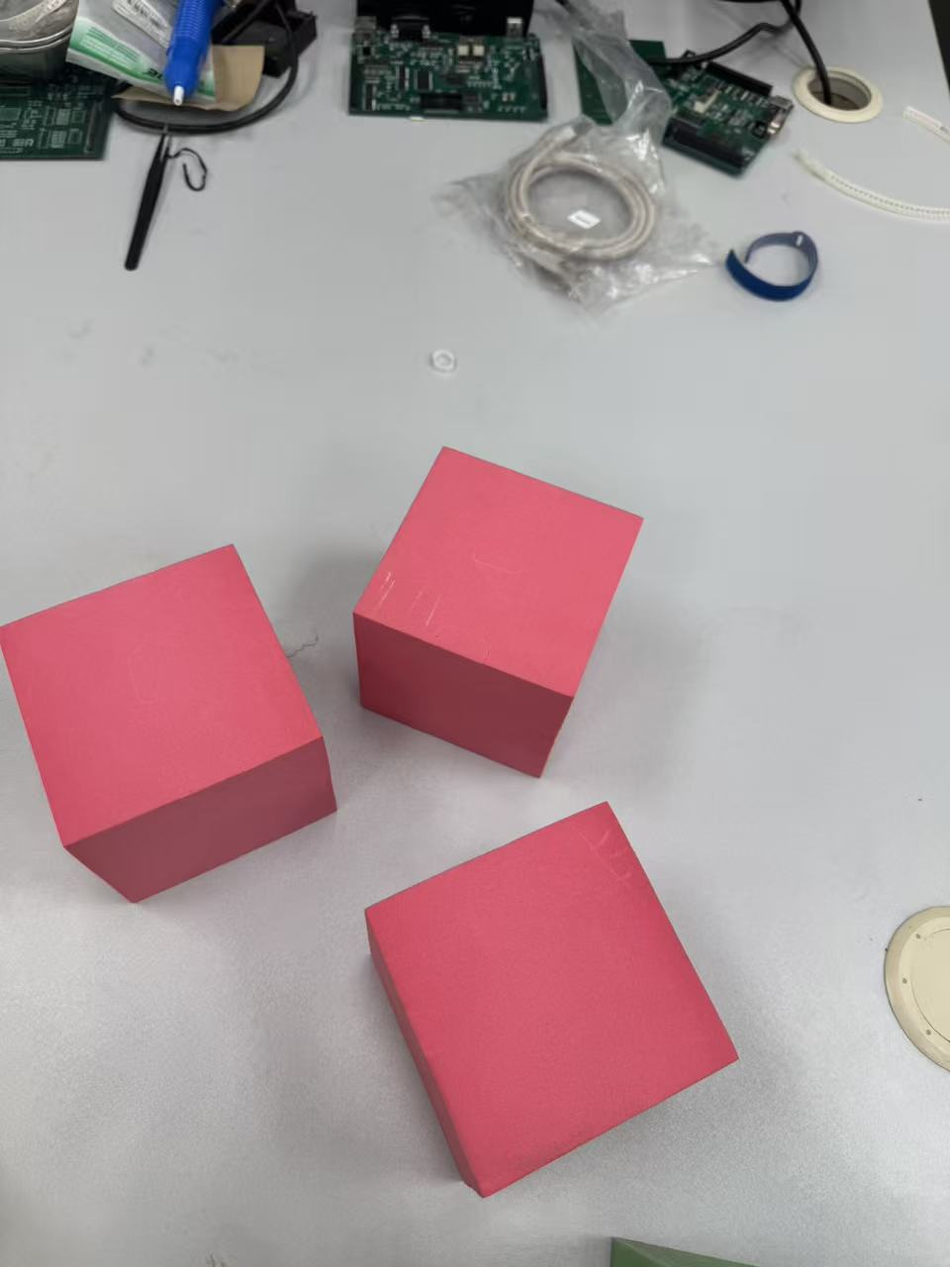red_small: (359, 804, 736, 1196), (0, 546, 338, 901), (355, 444, 641, 775)
